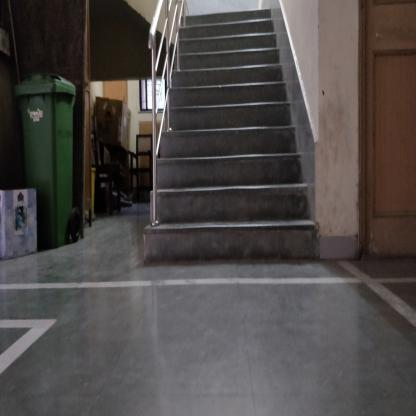stairs: (175, 88, 287, 270)
